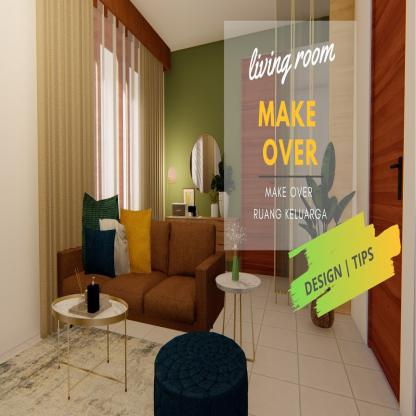meja: (47, 280, 135, 398), (214, 266, 265, 366)
sova: (58, 209, 226, 335)
